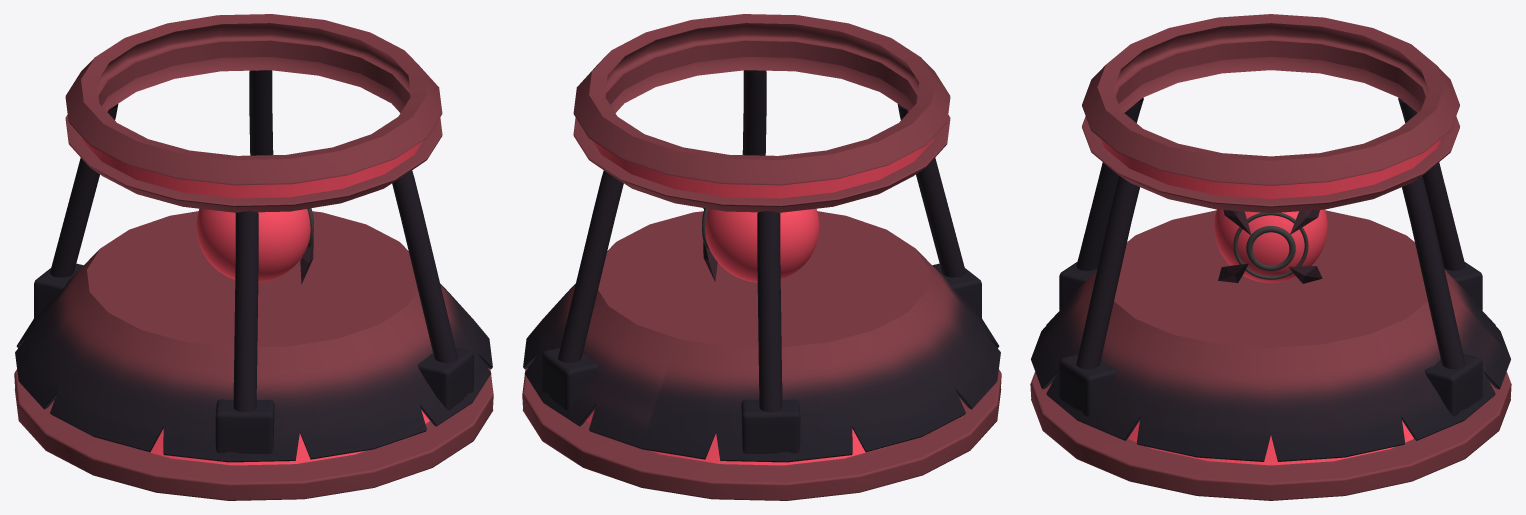
Rendered from enemy3.fbx.
3 renders of one model, left to right at view 1: azimuth 30°, elevation 25°; view 2: azimuth 150°, elevation 25°; view 3: azimuth 270°, elevation 25°, orthographic.
Visible parts, largest first — view 1: foundation, ring, foundation_bottom, enemy3_center, fence3, fence1, ring_Emission, fence4, fence2, foundation_Emission; view 2: foundation, ring, foundation_bottom, enemy3_center, fence4, fence2, ring_Emission, fence3, fence1, foundation_Emission; view 3: foundation, ring, foundation_bottom, enemy3_center, fence1, fence2, ring_Emission, fence3, fence4, enemy3_eye, enemy3_tuno, foundation_Emission.
Boxes of the visible parts, x1,y1,x2,y2 form: foundation: (15,211,492,462); ring: (65,14,442,212); foundation_bottom: (14,368,493,500); enemy3_center: (196,208,310,282); fence3: (233,211,258,411); fence1: (392,170,457,362); ring_Emission: (82,137,423,198); fence4: (50,104,118,277); fence2: (249,70,273,155); foundation_Emission: (120,410,429,465); foundation: (523,211,1000,462); ring: (573,14,950,212); foundation_bottom: (522,368,1001,500); enemy3_center: (705,208,819,282); fence4: (757,211,782,411); fence2: (558,170,623,362); ring_Emission: (592,137,933,198); fence3: (897,104,965,277); fence1: (742,70,766,155); foundation_Emission: (586,410,895,465); foundation: (1031,210,1510,461); ring: (1082,14,1459,213); foundation_bottom: (1030,372,1511,500); enemy3_center: (1214,209,1327,282); fence1: (1076,176,1139,369); fence2: (1402,176,1465,369); ring_Emission: (1101,139,1440,198); fence3: (1076,97,1143,270); fence4: (1398,97,1465,270); enemy3_eye: (1233,212,1308,279); enemy3_tuno: (1218,210,1322,283); foundation_Emission: (1128,420,1413,465).
Bounding box in the file's own units: 333 × 240 × 333.
6 materials, 6 textured.
